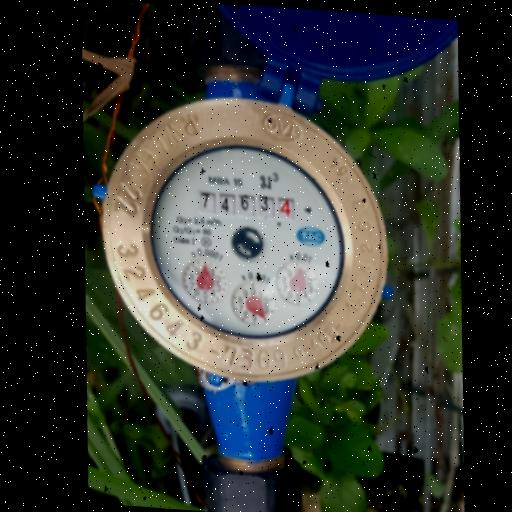3: (260, 197, 275, 218)
4: (279, 199, 294, 221), (219, 193, 235, 213)
6: (239, 194, 256, 217)
7: (200, 191, 216, 213)
border_water_meter_number: (194, 187, 301, 226)
